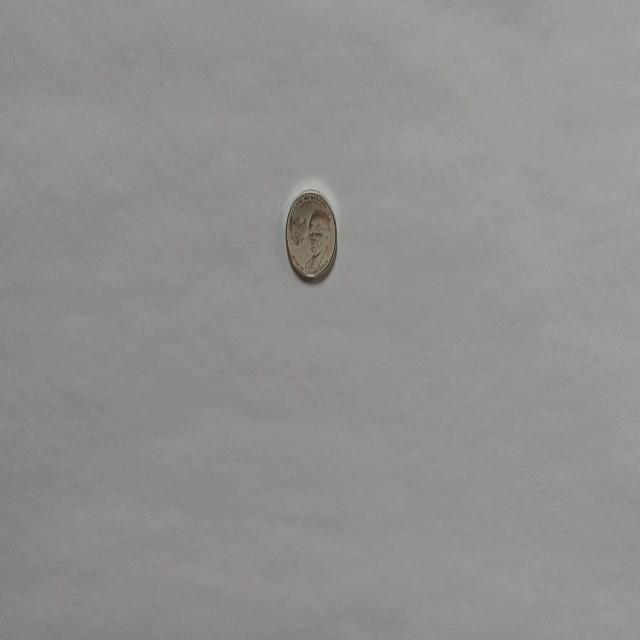lima ratus rupiah: (284, 188, 338, 282)
